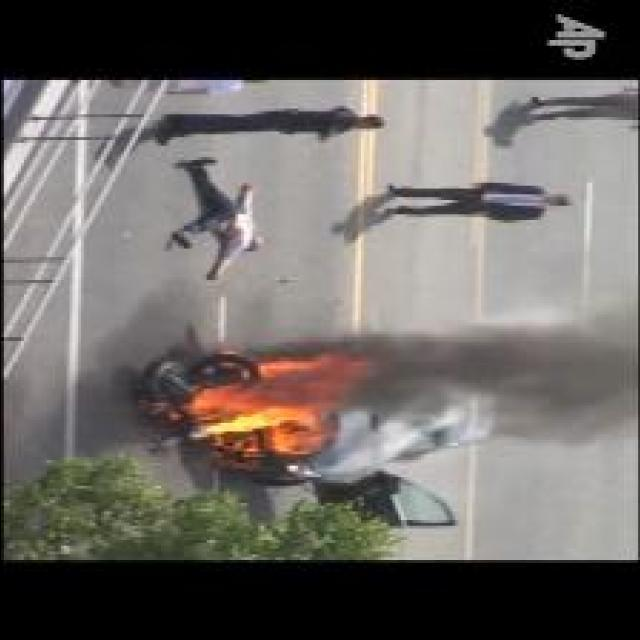Fire: (184, 356, 376, 458)
